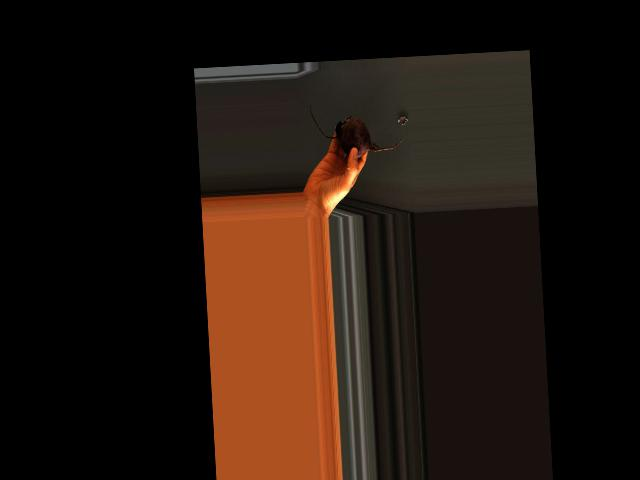beet: (309, 99, 403, 160)
